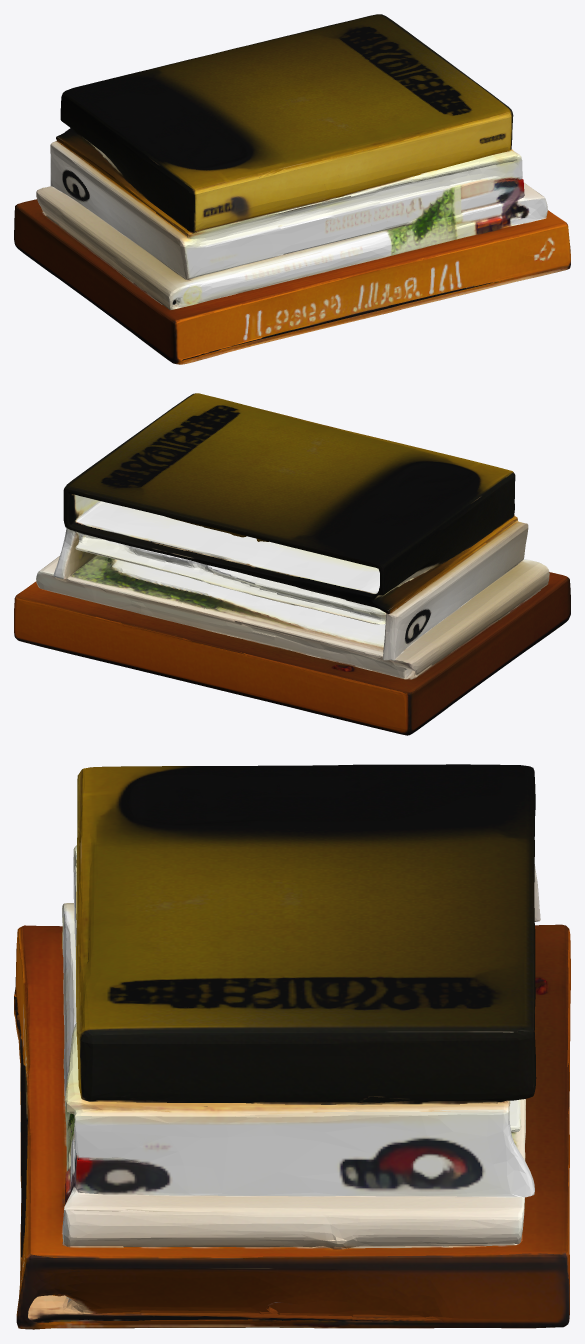
The model's file is books_textured.obj.
3 renders of one model, top to bottom at view 1: azimuth 30°, elevation 25°; view 2: azimuth 150°, elevation 25°; view 3: azimuth 270°, elevation 25°, orthographic. The views are drawn at different scales.
Parts seen in each view (by area): view 1: obj1; view 2: obj1; view 3: obj1.
Boxes of the visible parts, x1=… form: obj1: x1=14, y1=14, x2=570, y2=364; obj1: x1=14, y1=393, x2=570, y2=735; obj1: x1=14, y1=764, x2=570, y2=1329.
Size of the model in its own units: 1 by 0.3815 by 0.7094.
Materials: 1 (1 with a texture image).
